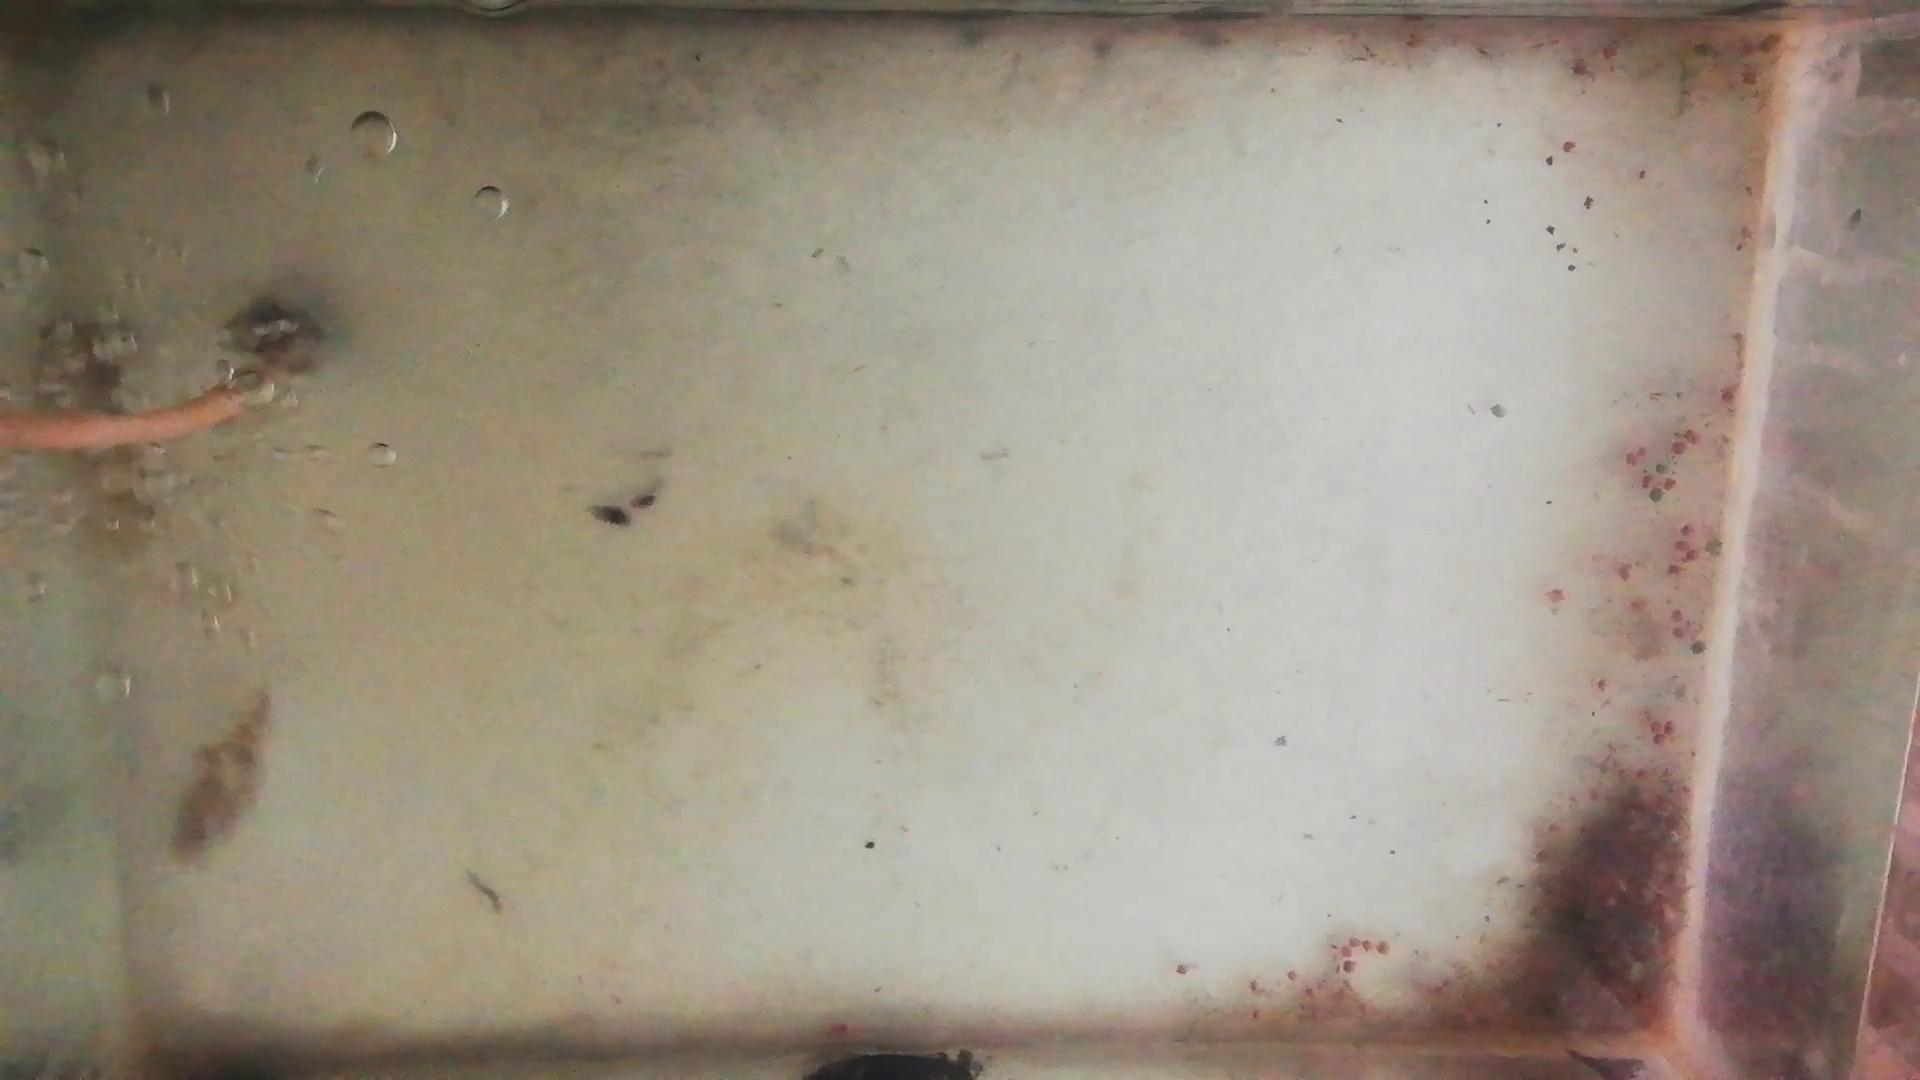fish: (40, 320, 152, 516), (164, 686, 276, 868)
